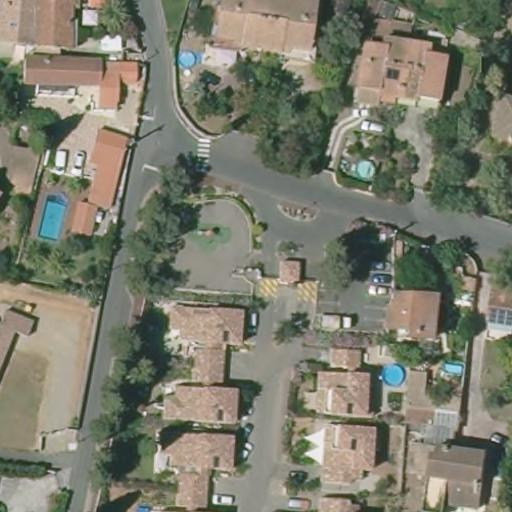pool: (33, 187, 74, 241), (348, 154, 382, 186), (430, 351, 468, 379), (378, 357, 407, 391), (172, 44, 199, 71)
